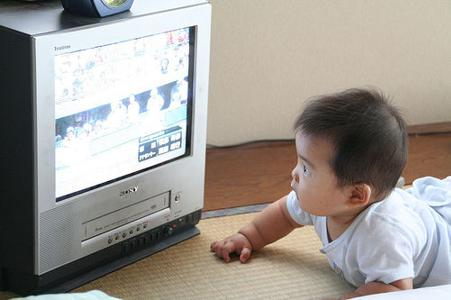person: (210, 90, 450, 299)
